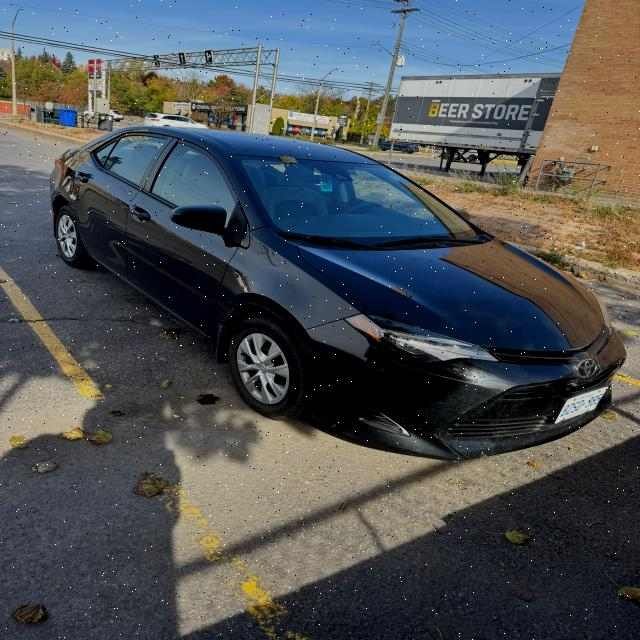plaque: (555, 387, 608, 423)
